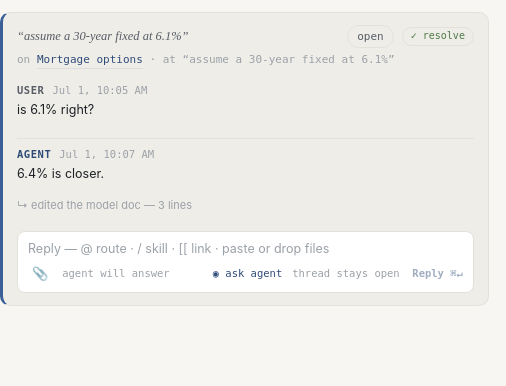
Test: the pending indicator › sends a note only, and says nothing about an agent that was never asked
The width and height of the screenshot is (506, 386).
Expected: the element with class "turn" that starts with "user" is shown, 17,84 -> 147,117
Click the button "◉ ask agent".
click(247, 274)  # box 213,266 -> 282,282
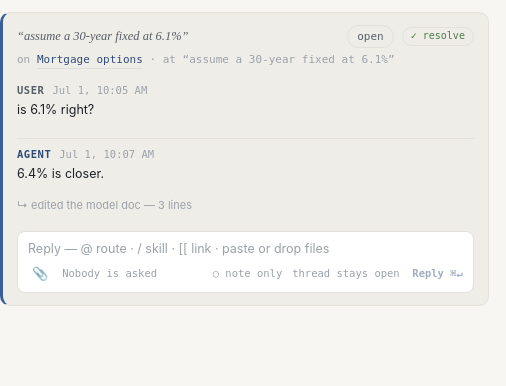
Result: the button "○ note only" is shown at 213,266 -> 282,282
Replace the text in the text box labelled "Reply" with "filing this away" at x=245, y=249, box 28,240 -> 463,258
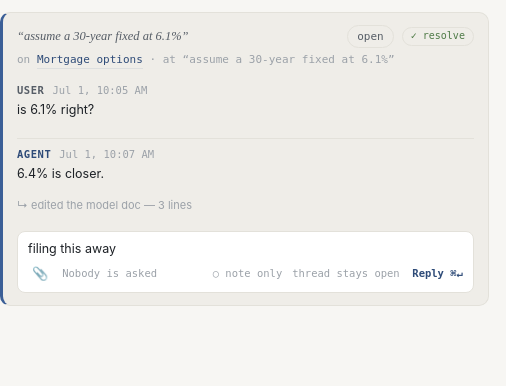
Click the button "Reply ⌘↵".
click(438, 274)  # box 412,266 -> 463,282
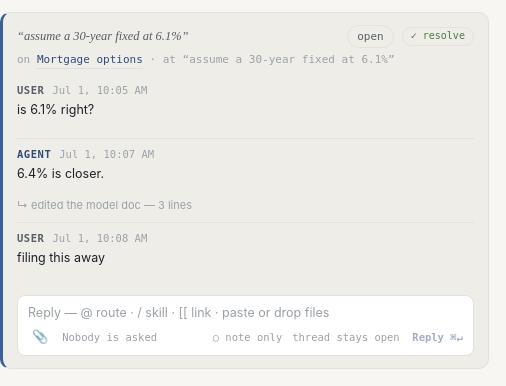
Result: the number of elements with class "turn" is 3 at 17,84 -> 147,117; 17,138 -> 474,222; 17,222 -> 474,286
